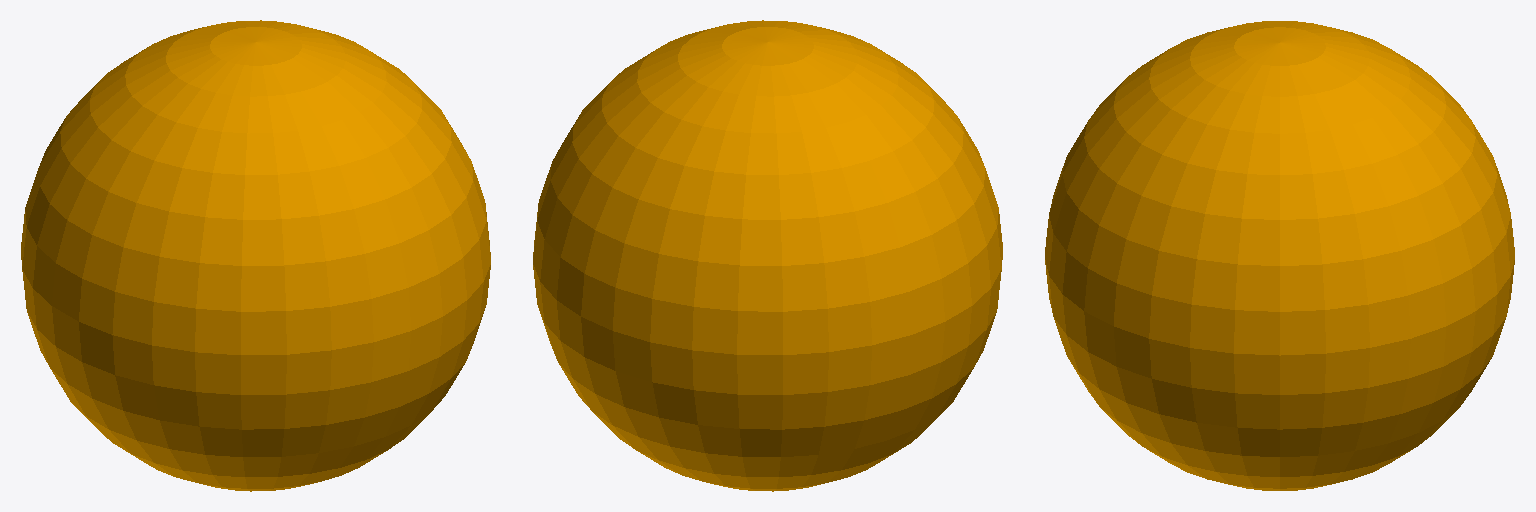
URDF robot description (sphere):
<?xml version="1.0"?>

<robot name="sphere">

    <link name="body">

        <inertial>
            <origin xyz="0 0 3.0"/>
            <mass value="2.0"/>
            <inertia ixx="1.0" ixy="0.0" ixz="0.0"
                               iyy="1.0" iyz="0.0"
                                         izz="1.0"/>
        </inertial>

        <visual>
            <origin xyz="0 0 3.0"/>
            <geometry>
                <sphere radius="0.1"/>
            </geometry>
        </visual>

        <collision>
            <origin xyz="0 0 3.0"/>
            <geometry>
                <sphere radius="0.1"/>
            </geometry>
        </collision>

    </link>

</robot>

--- Render facts (derived) ---
3 views of the same robot in one strip: view 1: azimuth 30°, elevation 25°; view 2: azimuth 150°, elevation 25°; view 3: azimuth 270°, elevation 25° (orthographic).
Model sphere with 1 links and 0 joints (none), rooted at body, posed every joint at zero.
Visible links, largest first — view 1: body; view 2: body; view 3: body.
Boxes of the visible links, bbox=[...] form: body: bbox=[21, 20, 490, 491]; body: bbox=[533, 20, 1002, 491]; body: bbox=[1045, 21, 1514, 490].
Bounding box of the posed robot: 0.2 × 0.2 × 0.2 m (x, y, z).
Geometry: primitives only (box / cylinder / sphere), no mesh files.